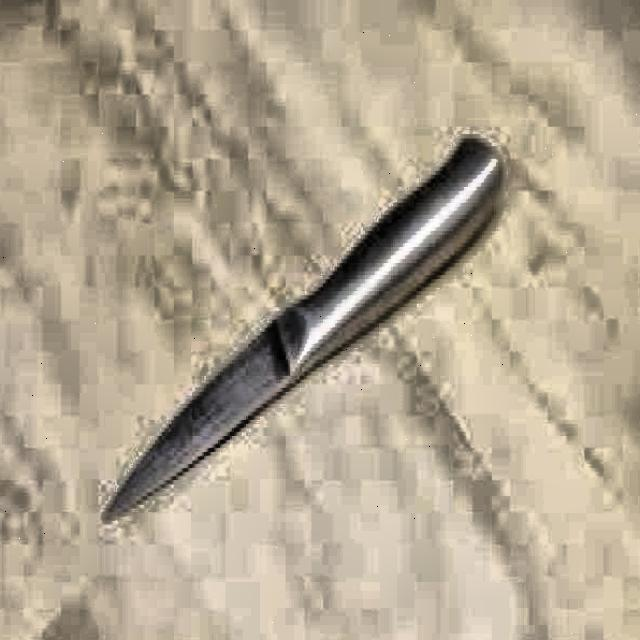knife: (102, 130, 507, 524)
